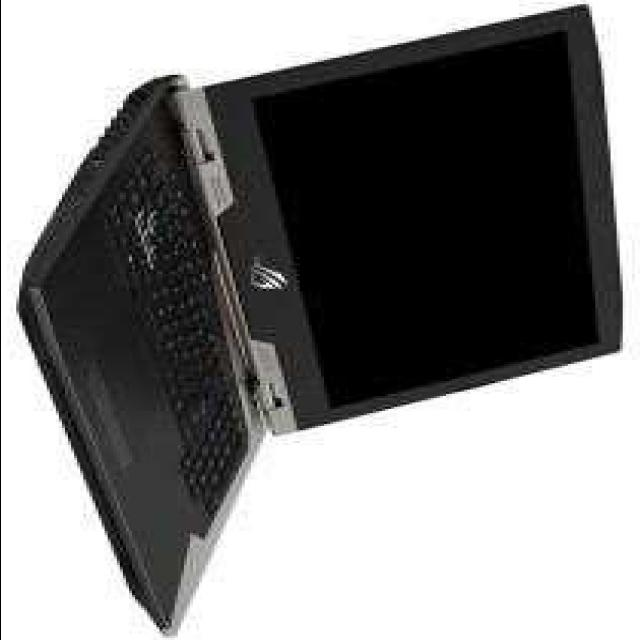laptop: (21, 0, 598, 640)
